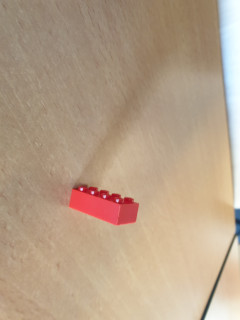2x4 red: (69, 184, 140, 230)
